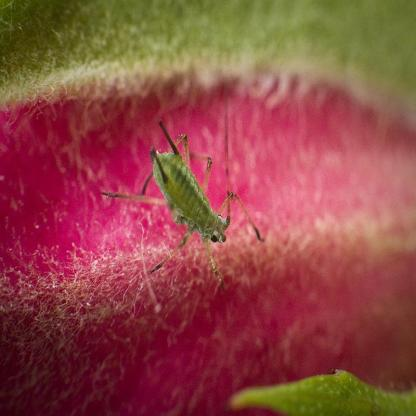aphid: (127, 112, 254, 272)
